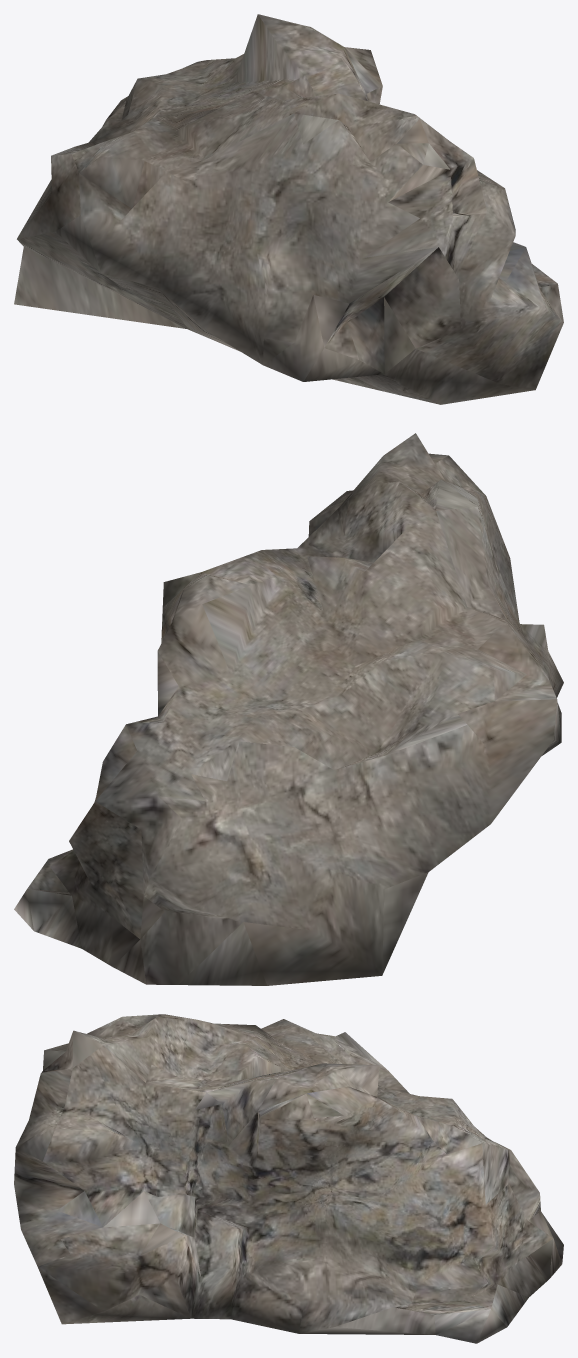
The model's file is boulder_a_lod2.glb.
The picture shows the model from 3 angles, top to bottom: view 1: azimuth 30°, elevation 25°; view 2: azimuth 150°, elevation 25°; view 3: azimuth 270°, elevation 25°; orthographic projection. The views are drawn at different scales.
Visible parts, largest first — view 1: boulder_a_lod2; view 2: boulder_a_lod2; view 3: boulder_a_lod2.
Part boxes in pixels (x1,y1,x2,y2): boulder_a_lod2: [14, 14, 563, 404]; boulder_a_lod2: [14, 433, 563, 985]; boulder_a_lod2: [14, 1014, 563, 1343].
Size of the model in its own units: 3.74 by 2.72 by 5.25.
1 material, 1 textured.
